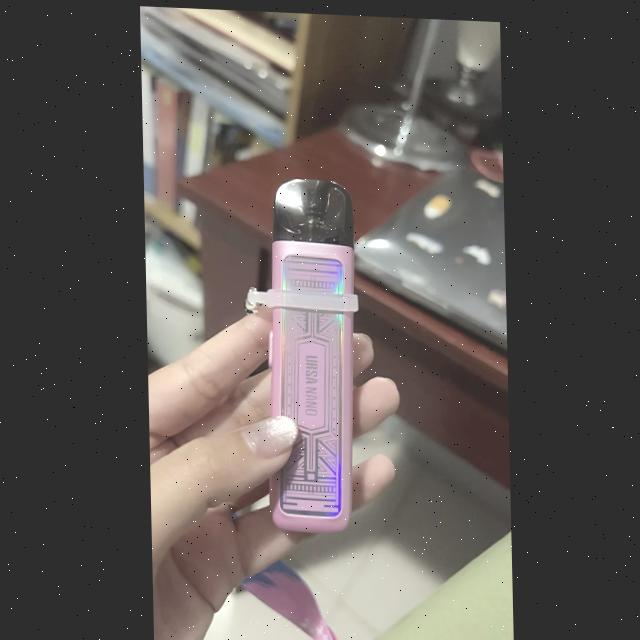vape: (267, 172, 359, 535)
